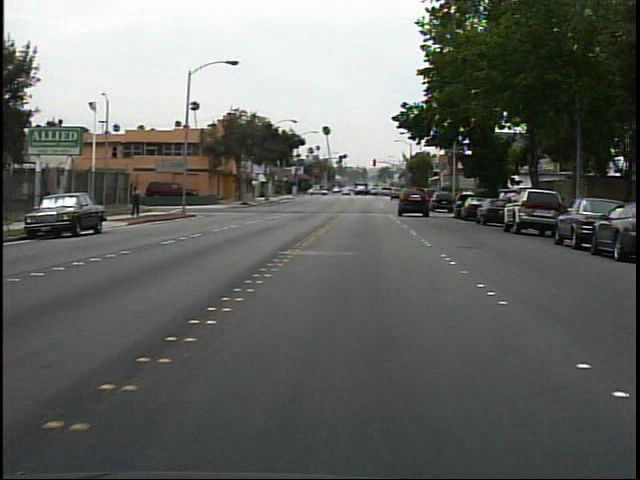person: (128, 178, 149, 221)
